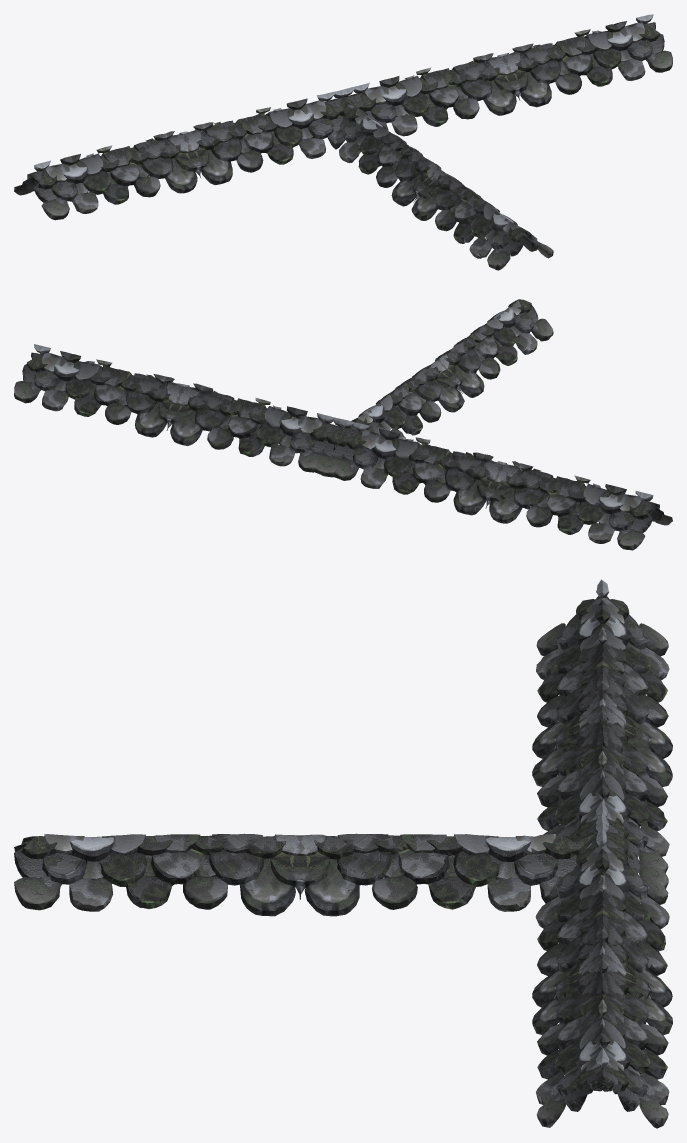
File: SM_Roof_Cap_09.fbx
3 renders of one model, top to bottom at view 1: azimuth 30°, elevation 25°; view 2: azimuth 150°, elevation 25°; view 3: azimuth 270°, elevation 25°, orthographic. The views are drawn at different scales.
Parts seen in each view (by area): view 1: SM_Roof_Cap_09_LOD0; view 2: SM_Roof_Cap_09_LOD0; view 3: SM_Roof_Cap_09_LOD0.
Part boxes in pixels (<box>): SM_Roof_Cap_09_LOD0: <box>14,14,672,270</box>; SM_Roof_Cap_09_LOD0: <box>14,299,672,550</box>; SM_Roof_Cap_09_LOD0: <box>14,579,672,1128</box>.
Bounding box in the file's own units: 801 × 455 × 58.12.
